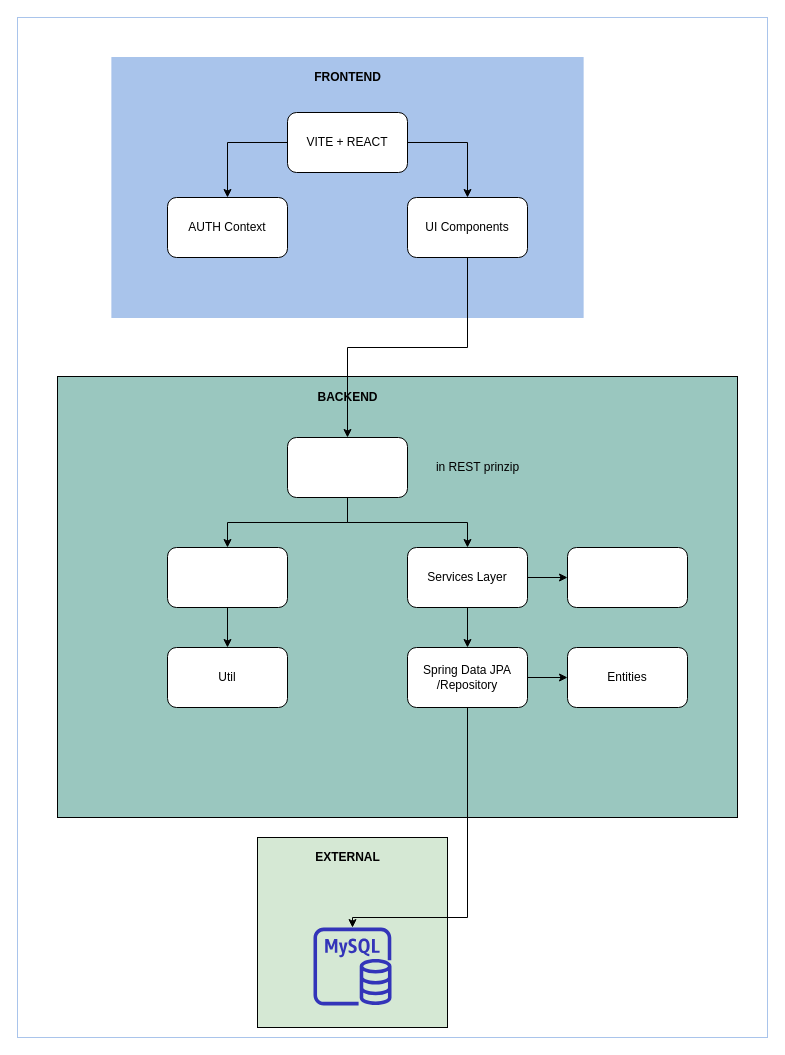
This 785x1055 diagram has some shape labels left out. Each missing label, with the centre of its shape:
DTO: pixel 627 577
Spring Boot API: pixel 347 467
Spring Security: pixel 227 577
